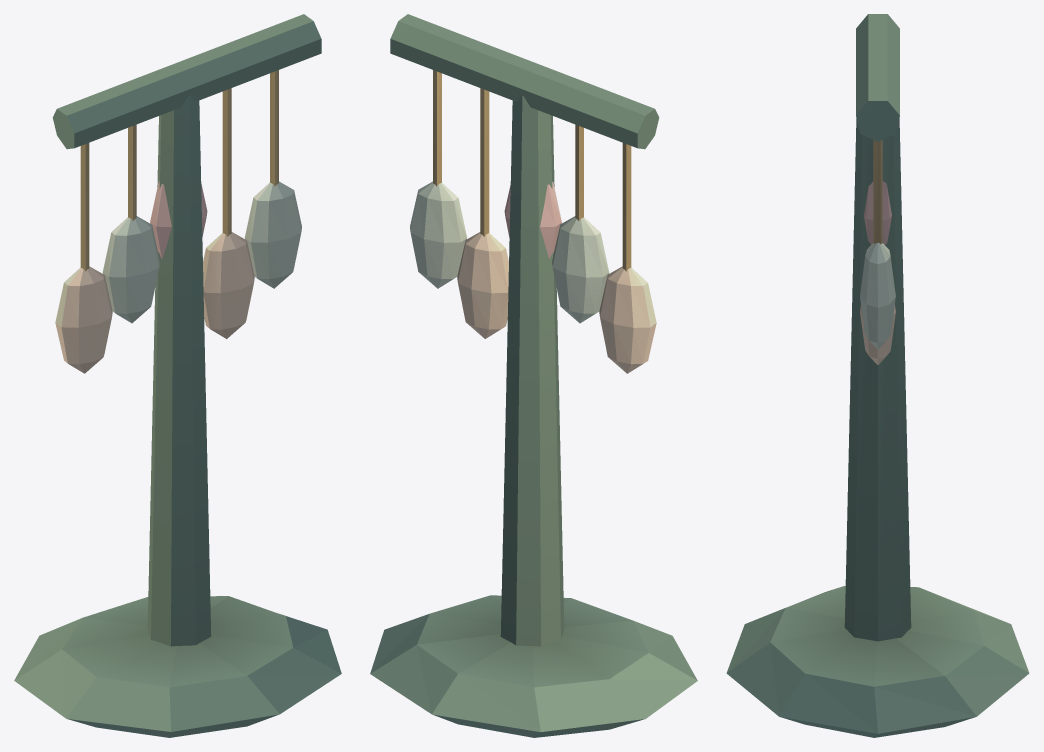
File: furniture_gezeitenwindspiel.glb
3 views of the same model, side by side, from view 1: azimuth 30°, elevation 25°; view 2: azimuth 150°, elevation 25°; view 3: azimuth 270°, elevation 25° (orthographic).
Visible parts, largest first — view 1: furniture_gezeitenwindspiel; view 2: furniture_gezeitenwindspiel; view 3: furniture_gezeitenwindspiel.
Boxes of the visible parts, x1=… form: furniture_gezeitenwindspiel: x1=14, y1=14, x2=341, y2=737; furniture_gezeitenwindspiel: x1=370, y1=14, x2=697, y2=737; furniture_gezeitenwindspiel: x1=726, y1=14, x2=1029, y2=737.
Size of the model in its own units: 0.6983 by 1.51 by 0.6303.
